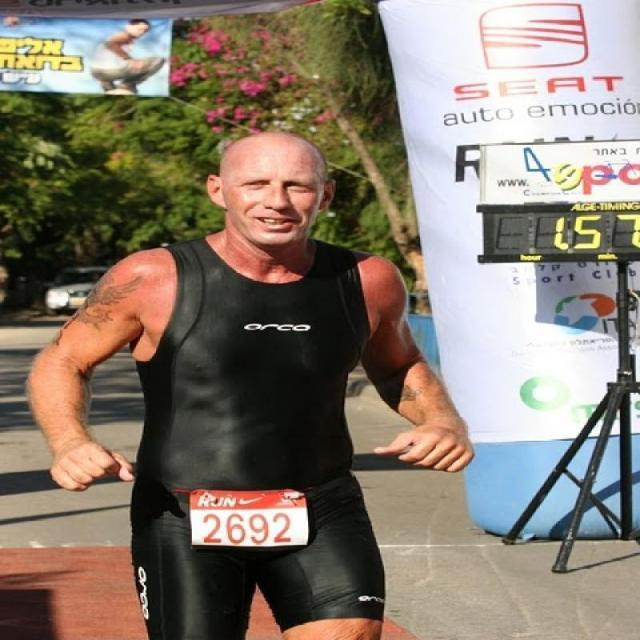dorsal: (180, 486, 326, 553)
